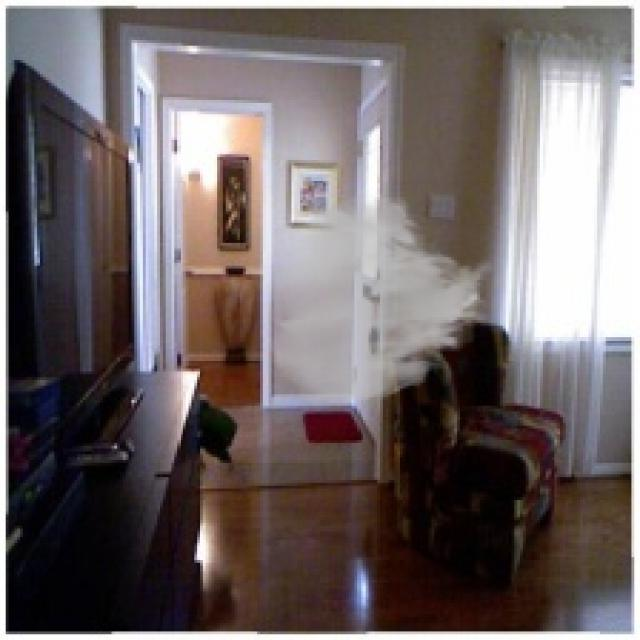Smoke: (266, 192, 497, 408)
